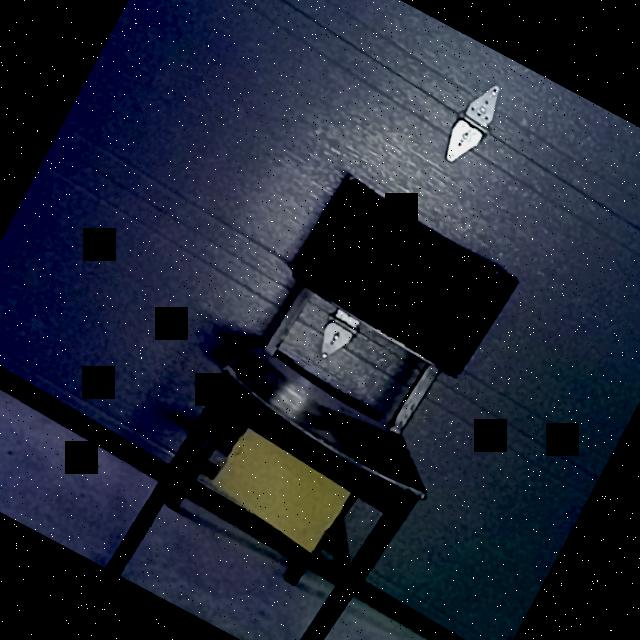box: (210, 432, 350, 548)
